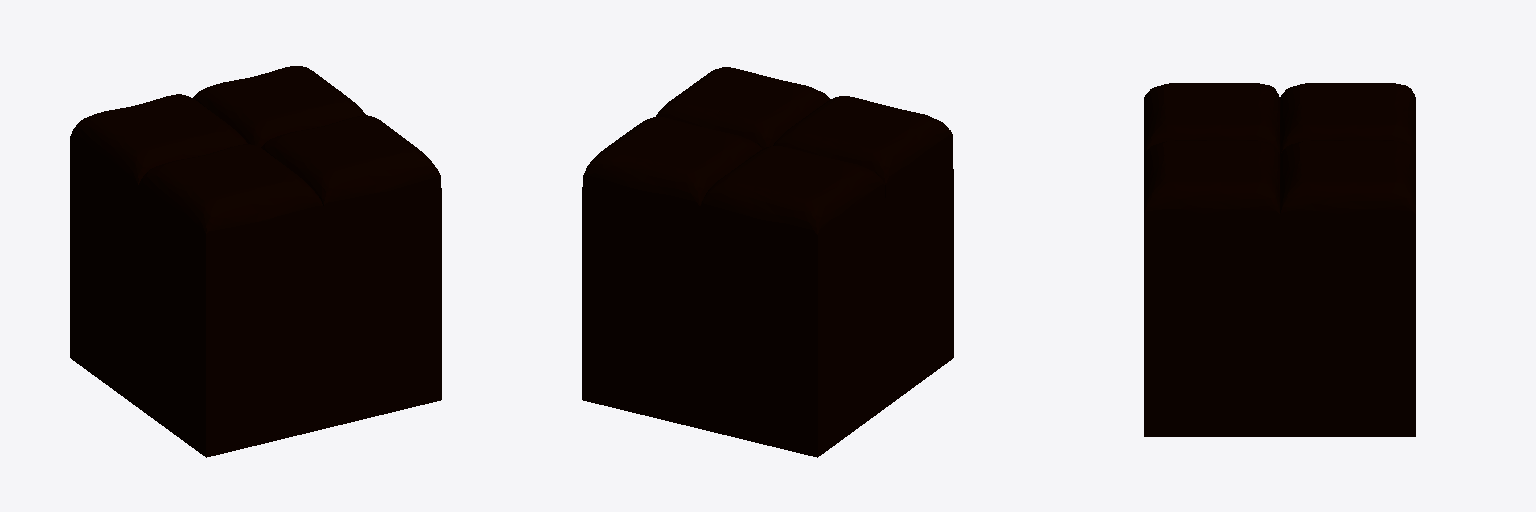
The model's file is browntiles_optimized.obj.
3 renders of one model, left to right at view 1: azimuth 30°, elevation 25°; view 2: azimuth 150°, elevation 25°; view 3: azimuth 270°, elevation 25°, orthographic.
Visible parts, largest first — view 1: Cube; view 2: Cube; view 3: Cube.
Part boxes in pixels (left/top/right/bottom): Cube: left=70, top=66, right=441, bottom=457; Cube: left=582, top=67, right=953, bottom=457; Cube: left=1144, top=83, right=1415, bottom=436.
Bounding box in the file's own units: 2 × 2 × 2.